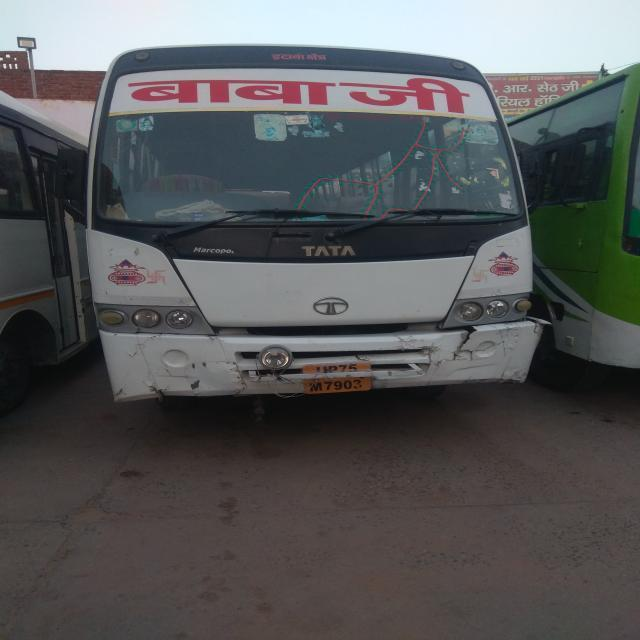bus_front: (72, 42, 560, 424)
